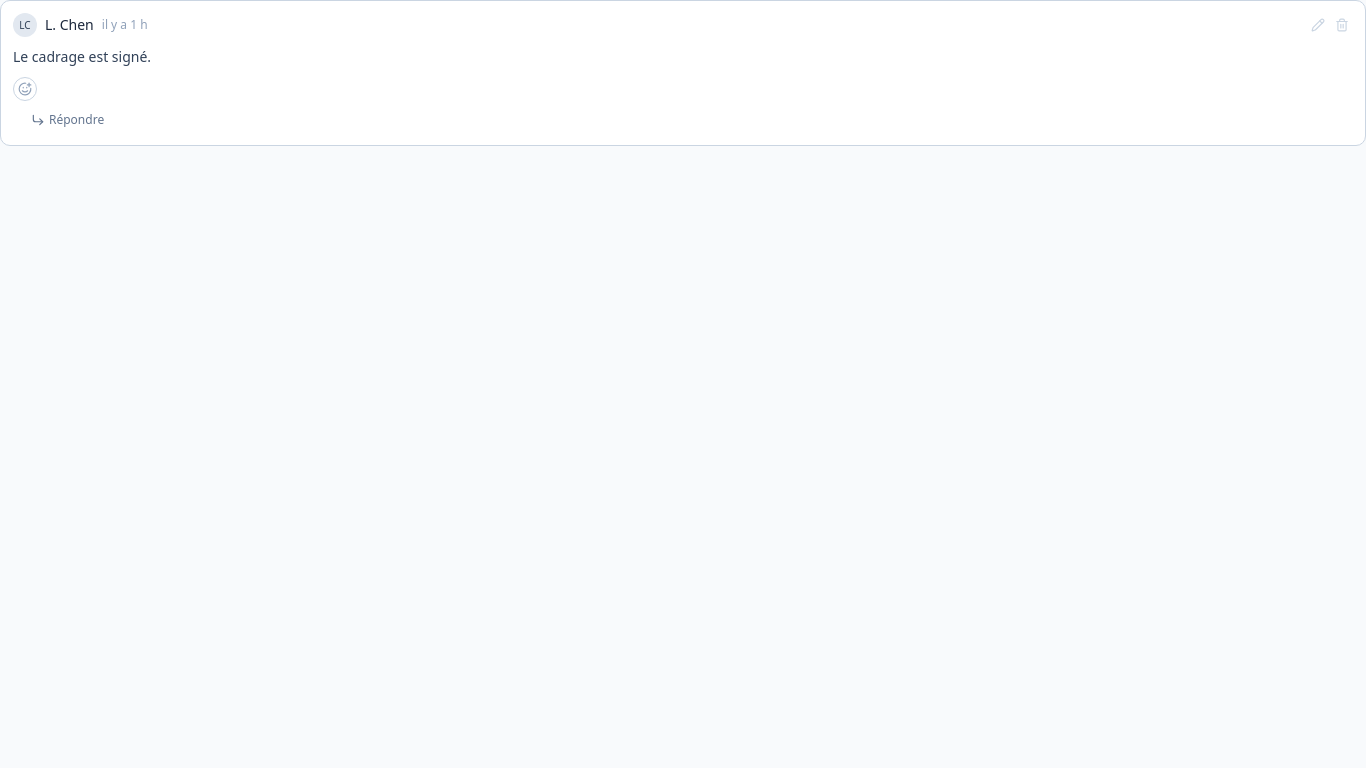
Test: ProjectUpdateCard › asks before withdrawing, and withdraws nothing yet
Click the button named "Supprimer la mise à jour" at (1342, 25), box top-left (1331, 14), bottom-right (1353, 36)
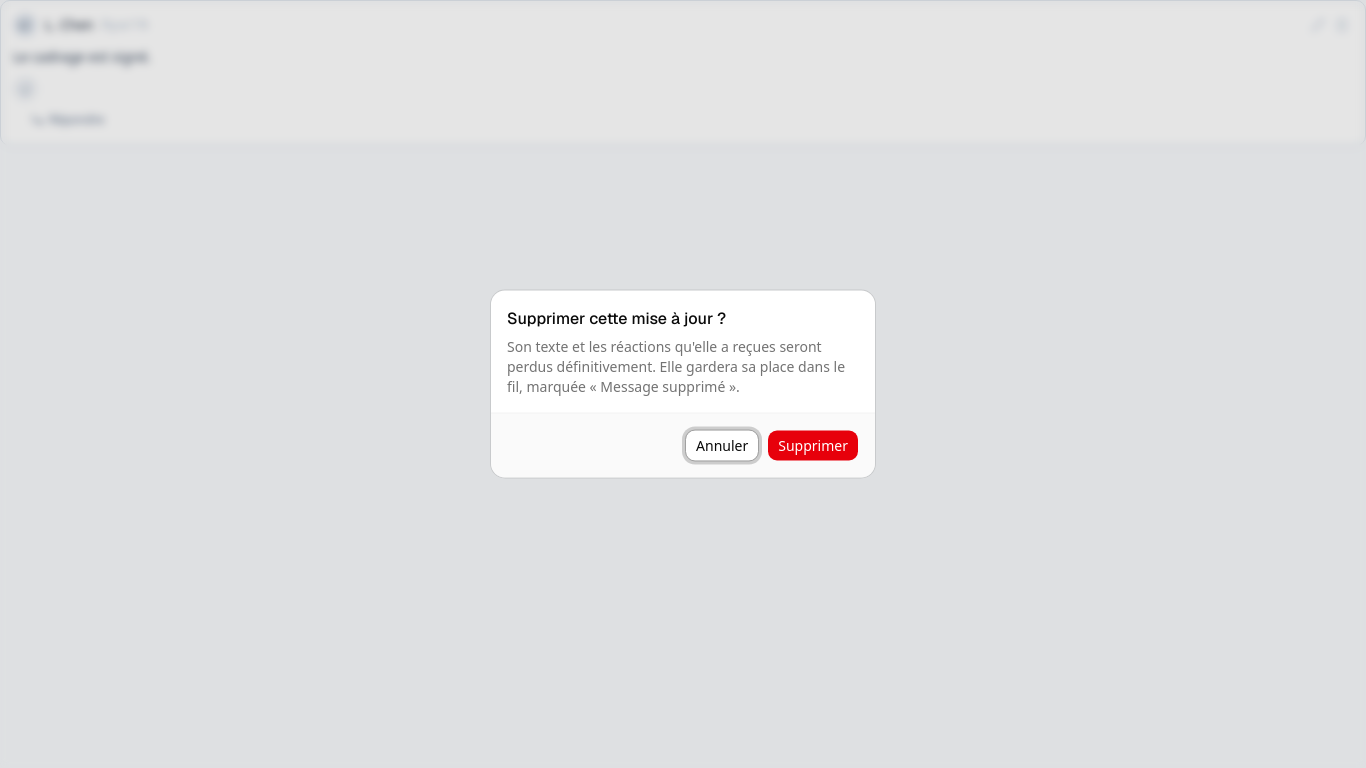
Now the dialog is shown, box top-left (491, 290), bottom-right (875, 478)
